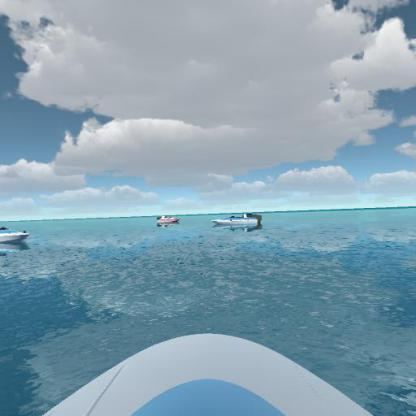usv1: (208, 205, 264, 236), (0, 222, 33, 248)
usv3: (151, 208, 181, 230)
